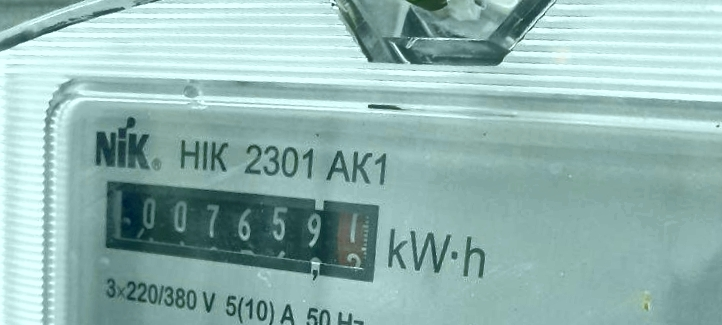0: (167, 194, 192, 237), (136, 193, 161, 233)
1: (340, 207, 364, 246)
5: (265, 202, 292, 244)
6: (230, 202, 257, 245)
7: (198, 198, 224, 240)
9: (300, 208, 326, 251)
screen: (88, 164, 389, 292)
